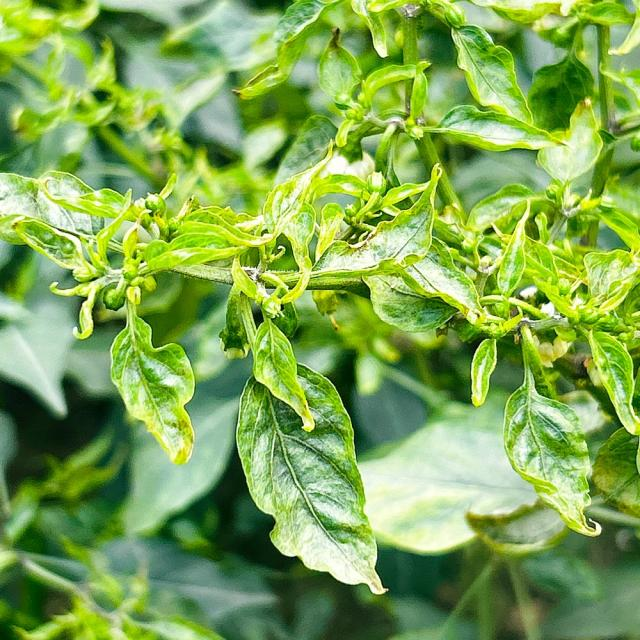Chilli_Leaf_Curl: (1, 1, 638, 595), (234, 358, 388, 595), (501, 328, 602, 538), (108, 302, 196, 465), (249, 316, 316, 433)
